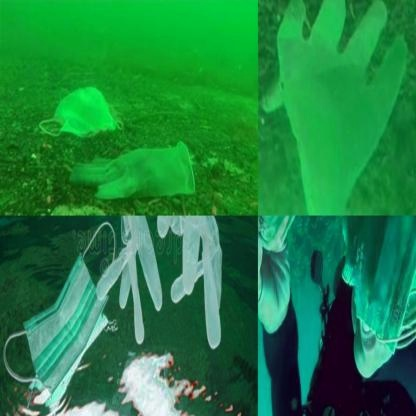Mask: (0, 215, 122, 400), (356, 216, 416, 351), (40, 84, 122, 136), (380, 226, 416, 325)
glove: (262, 0, 408, 215), (152, 216, 229, 347), (94, 216, 170, 348), (70, 142, 197, 202)
